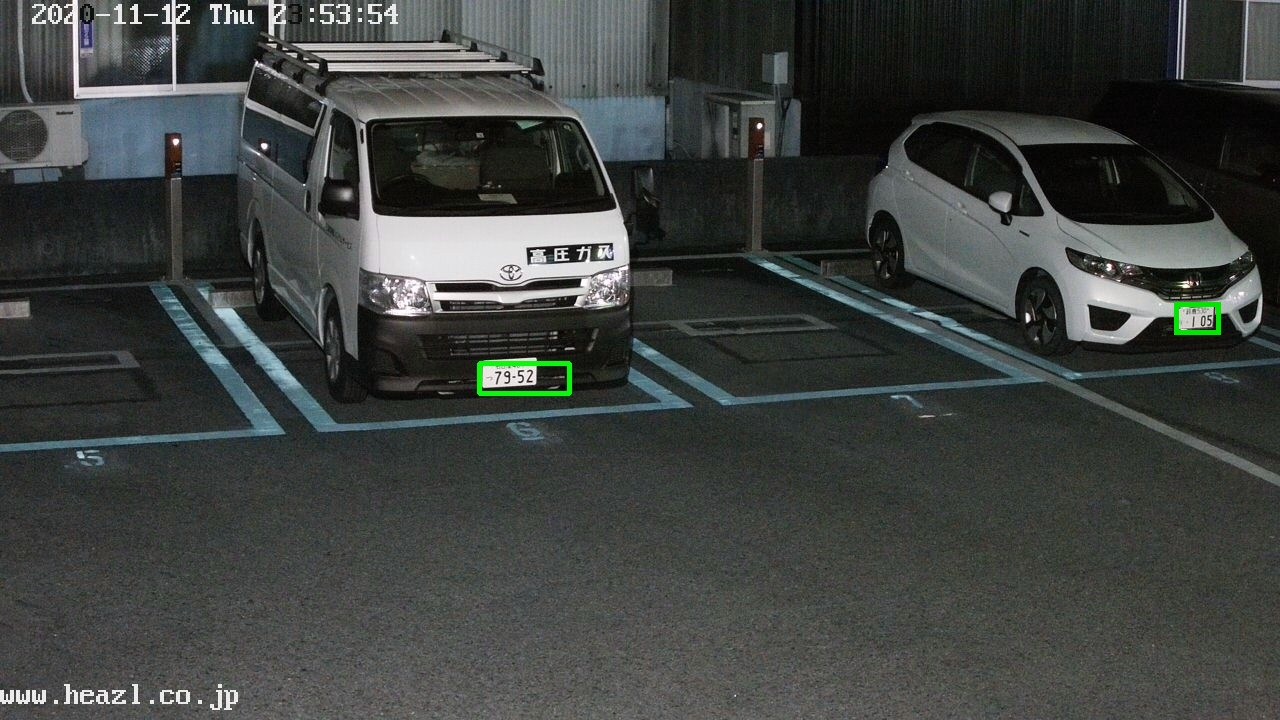number_plate: (481, 356, 537, 384), (1177, 304, 1216, 330)
